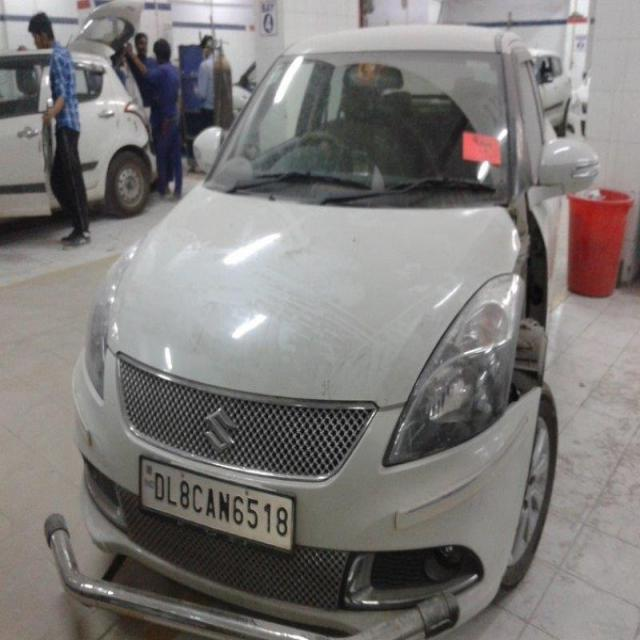damaged: (504, 200, 550, 410)
